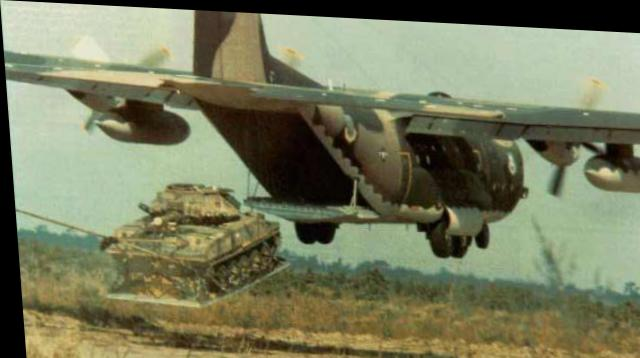tank: (90, 176, 273, 297)
